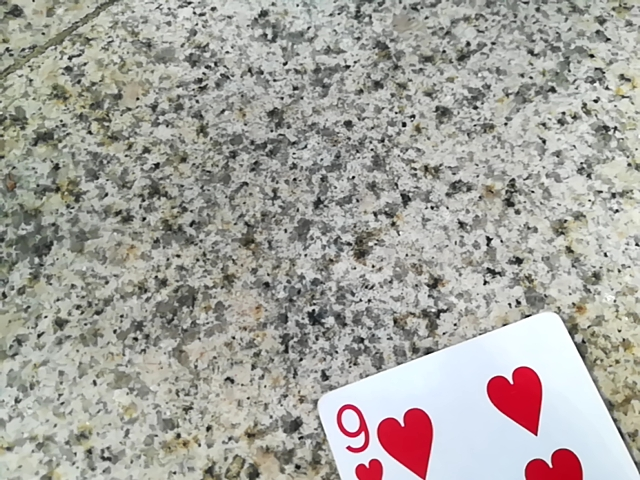hx 9: (304, 317, 640, 480)
